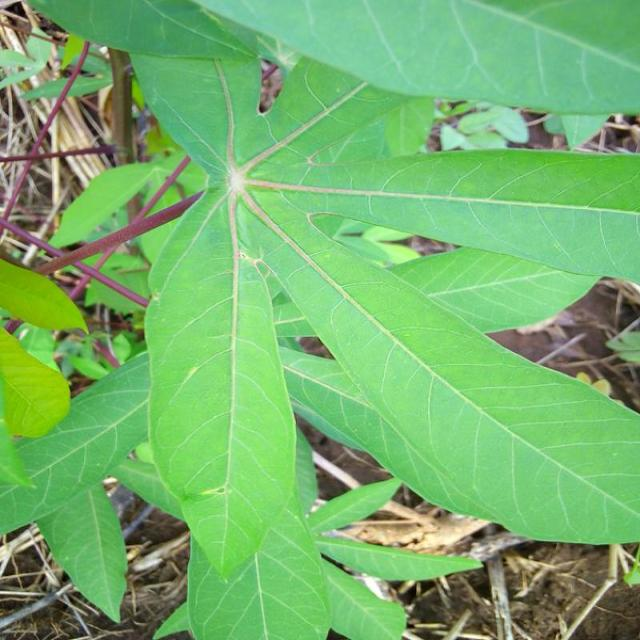cassava leaf: (7, 1, 639, 637)
